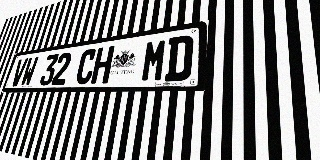2: (51, 52, 73, 85)
3: (39, 54, 59, 86)
C: (74, 48, 98, 84)
D: (164, 34, 194, 81)
H: (90, 46, 115, 84)
M: (140, 38, 168, 82)
V: (10, 58, 28, 87)
W: (20, 56, 39, 86)
